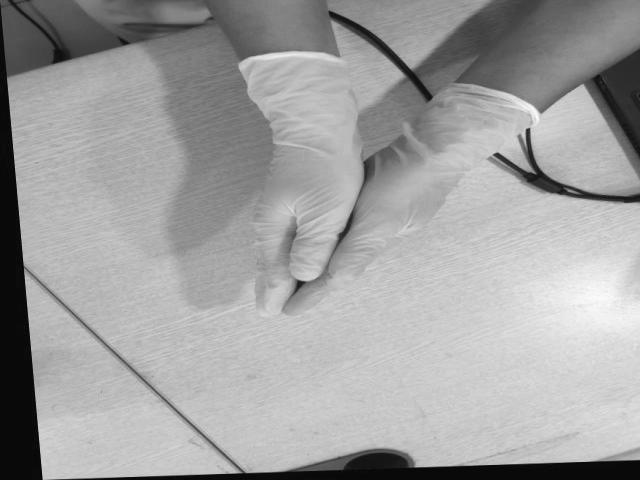gloved: (286, 138, 474, 313), (251, 122, 363, 330)
